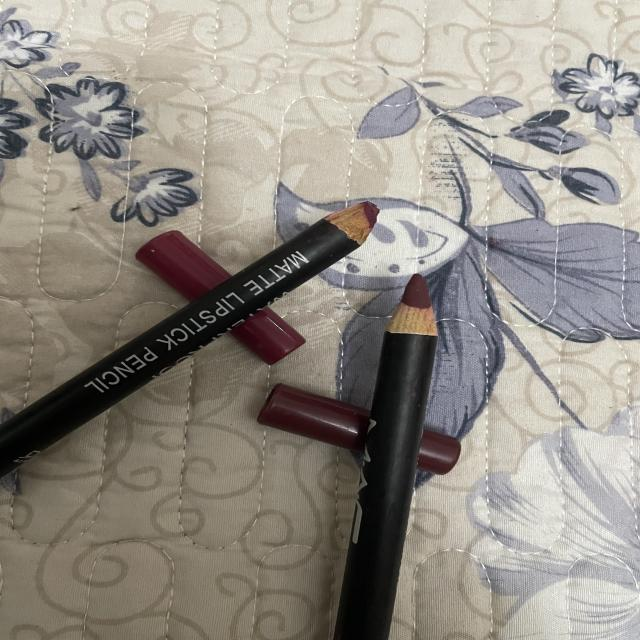lip liner: (0, 186, 411, 487), (344, 264, 511, 640)
